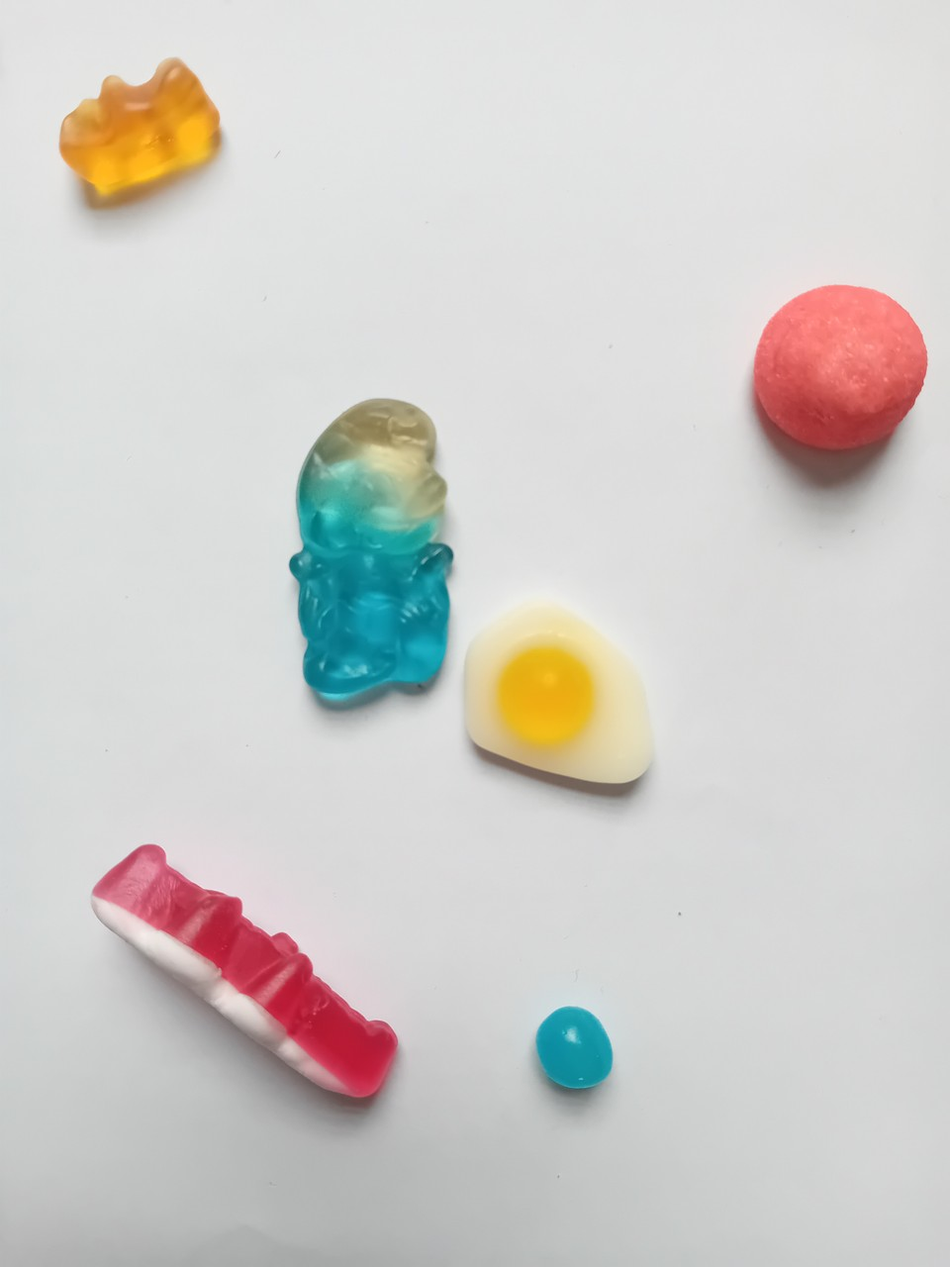crocodile_rouge: (63, 833, 403, 1107)
dragibus_bleu: (531, 1004, 615, 1096)
oeuf_oeuf: (457, 594, 655, 795)
ourson_orangeClair: (58, 54, 225, 205)
schtroumpf_bleu-blanc: (281, 385, 461, 722)
tagada_fraise: (738, 272, 932, 452)
